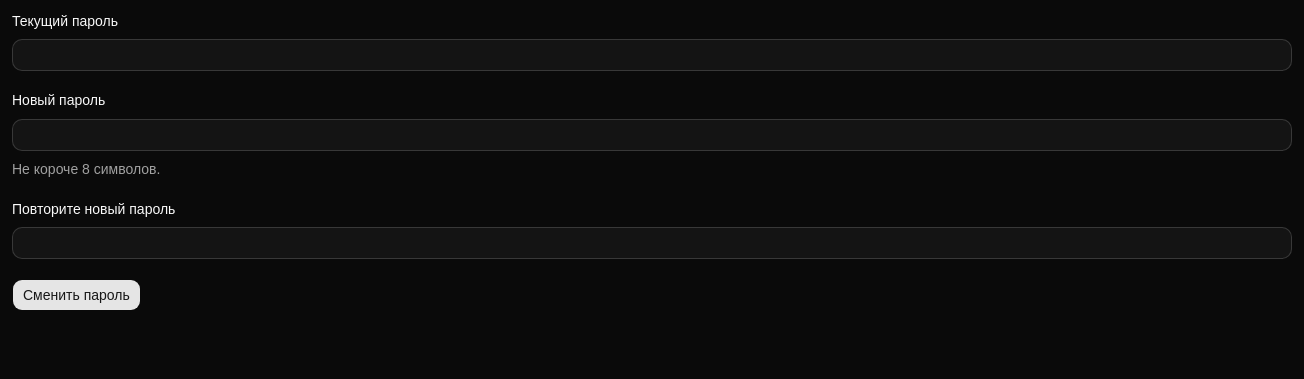
Test: смена пароля › проверяет поля до отправки
Type "old-password" into the password field labelled "Текущий пароль" at [652, 55], box [12,39,1292,71]
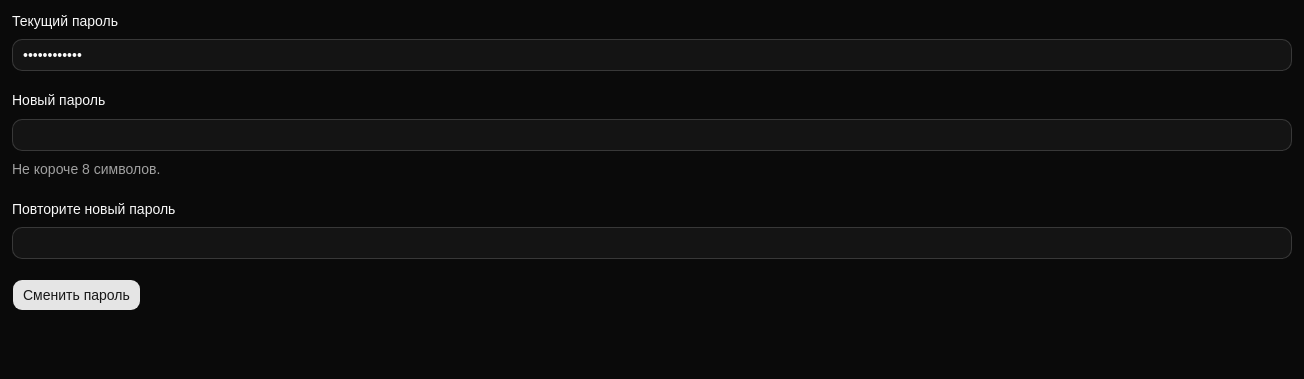
Type "short" into the password field labelled "Новый пароль" at [652, 134], box [12,118,1292,150]
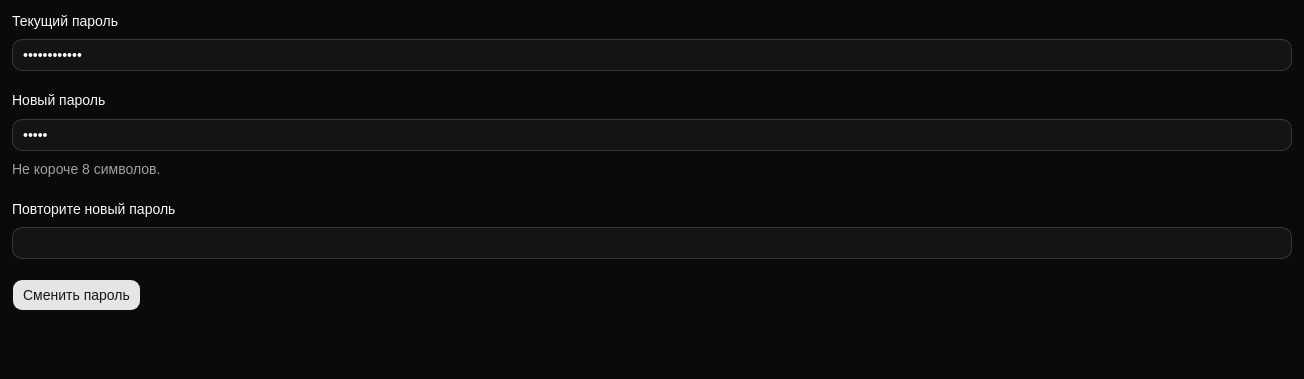
Type "other" into the password field labelled "Повторите новый пароль" at [652, 243], box [12,227,1292,259]
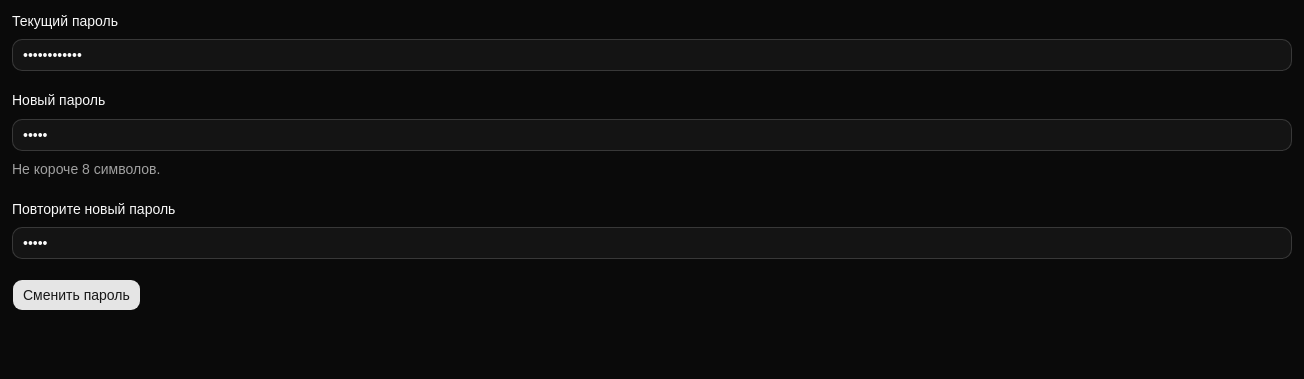
Click the button "Сменить пароль" at [76, 295], box [12,279,141,311]
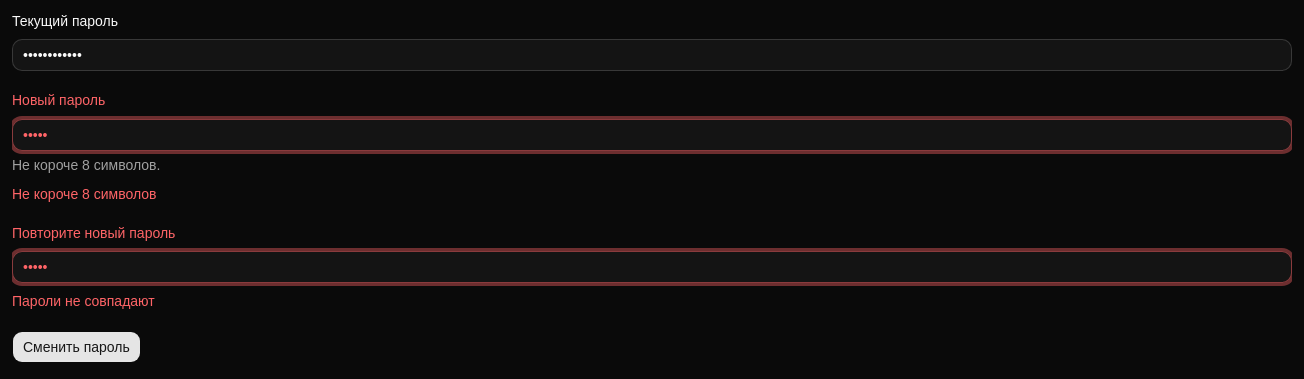
expect the text "Не короче 8 символов" is shown: met, box [12,186,156,202]
expect the text "Пароли не совпадают" is shown: met, box [12,293,155,309]
